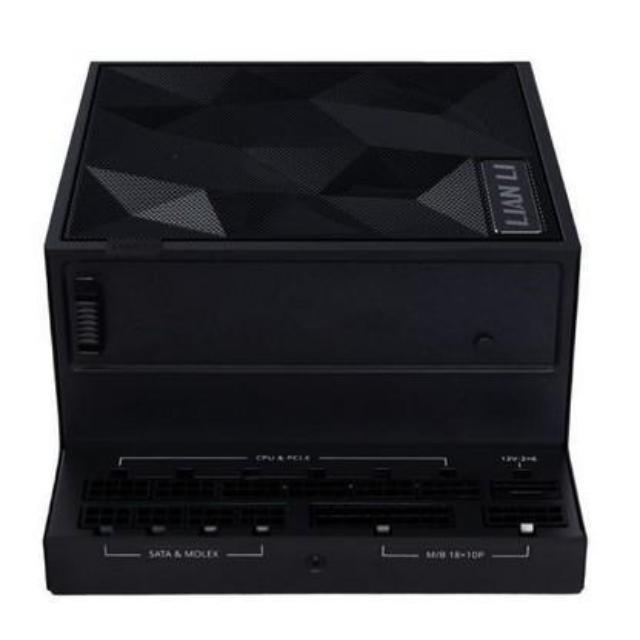PSU: (28, 46, 597, 614)
